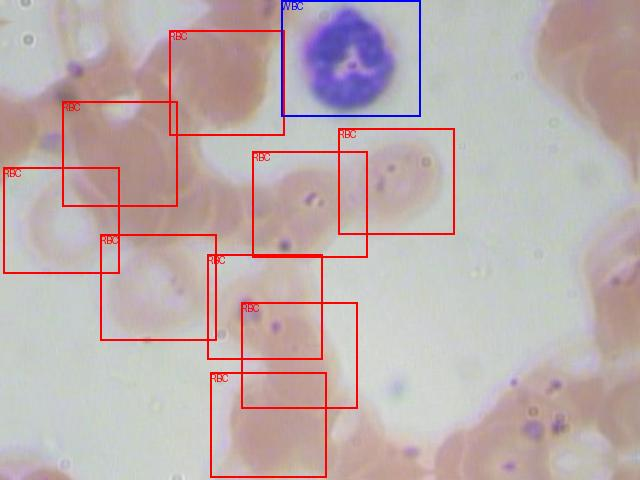RBC: (338, 128, 454, 234), (100, 234, 216, 340), (3, 167, 119, 273), (241, 302, 357, 408), (252, 151, 367, 257), (210, 372, 326, 477), (207, 254, 322, 359), (169, 30, 284, 135), (62, 101, 177, 206)
WBC: (281, 0, 420, 116)
